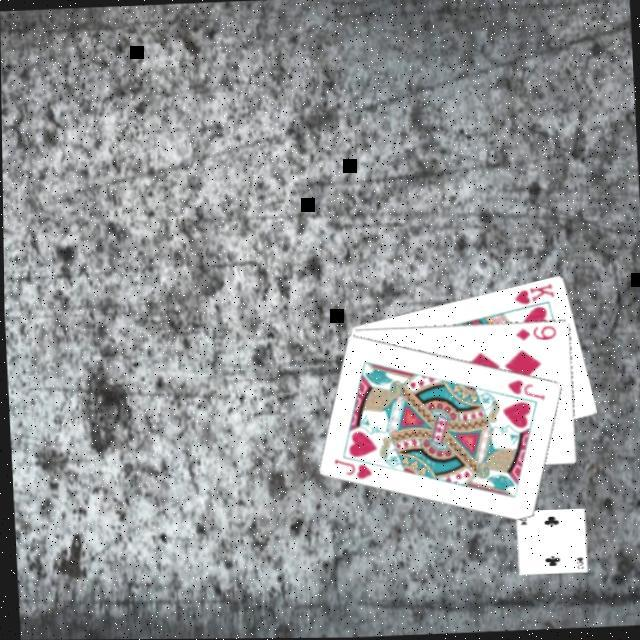9D: (513, 325, 560, 345)
JH: (331, 455, 376, 484), (504, 377, 548, 406)
KH: (511, 282, 558, 310)
